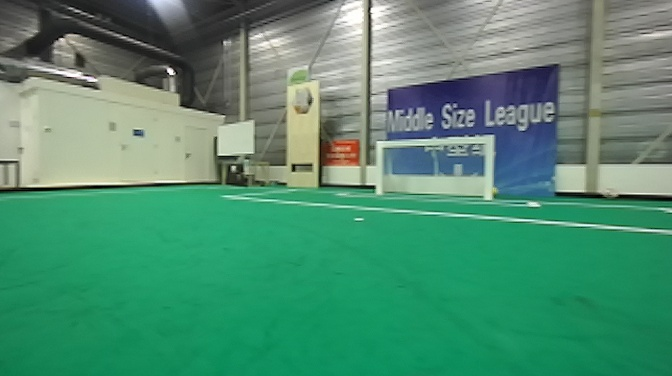goalpost: (478, 128, 497, 202), (370, 132, 386, 196)
